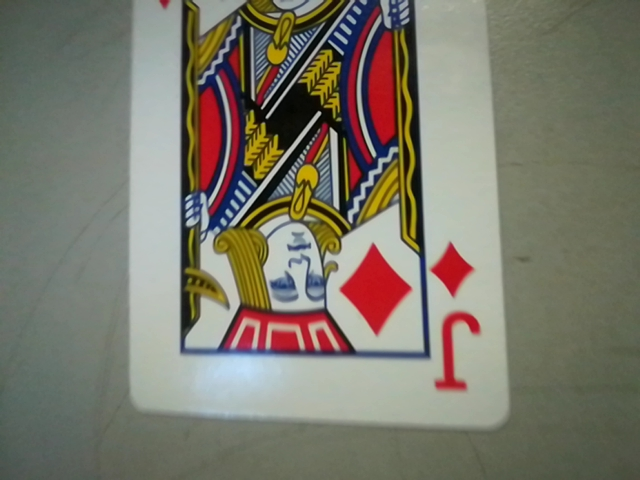fk j: (418, 231, 494, 406)
